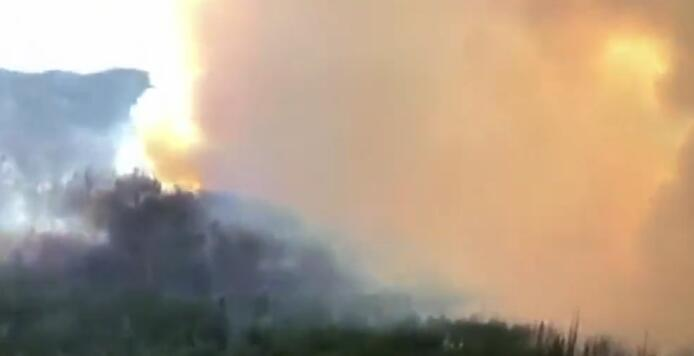yanwu: (128, 2, 693, 347)
